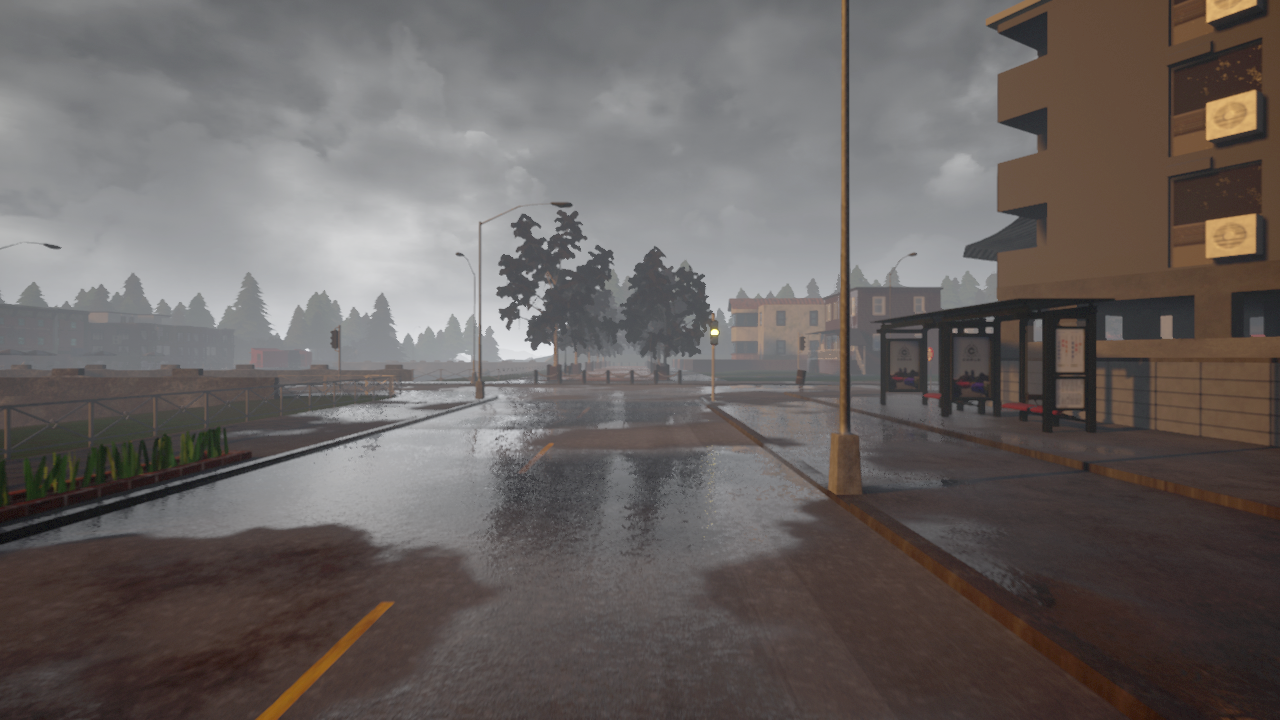yellow: (709, 320, 720, 346)
